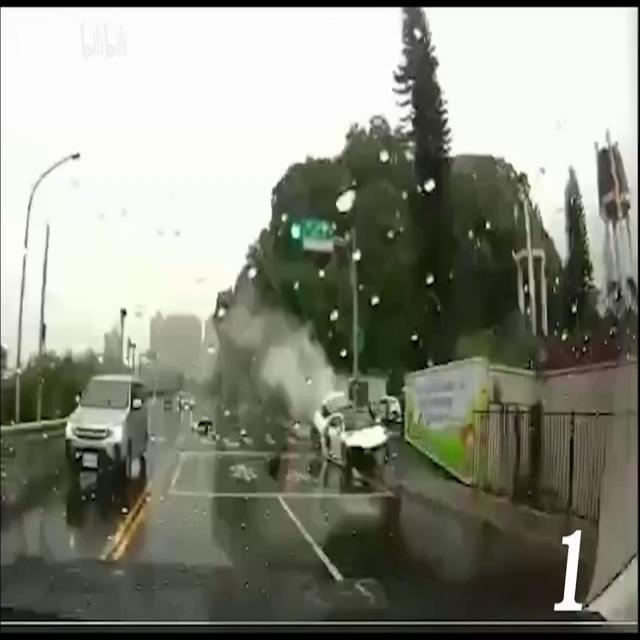accident: (310, 392, 392, 470)
